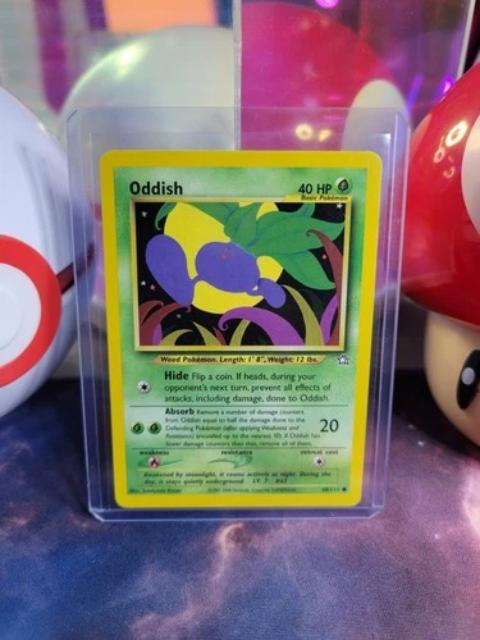Card: (93, 142, 385, 509)
Name: (124, 174, 186, 198)
